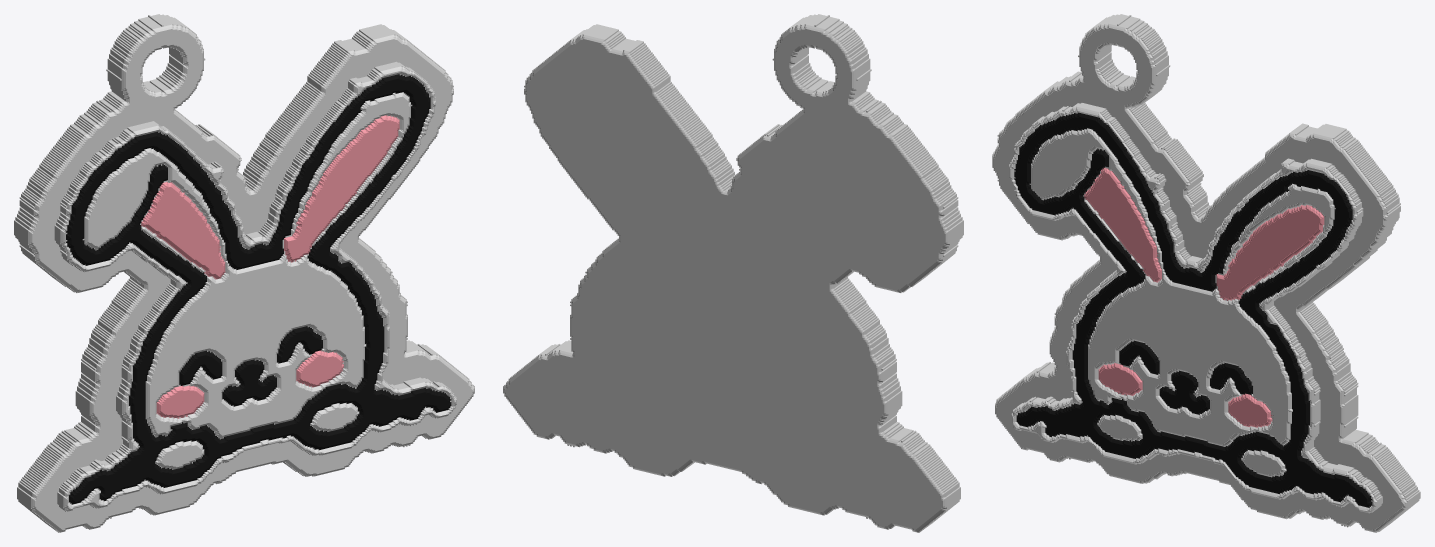
File: bunny_left_multicolour.obj
3 renders of one model, left to right at view 1: azimuth 30°, elevation 25°; view 2: azimuth 150°, elevation 25°; view 3: azimuth 330°, elevation 25°, orthographic. The views are drawn at different scales.
Parts seen in each view (by area): view 1: part_1_base_white, part_25_black_details, part_3_base_white, part_2_base_white, part_29_pink_details, part_30_pink_details, part_4_base_white, part_28_black_details, part_31_pink_details, part_32_pink_details, part_24_base_white, part_23_base_white (+2 smaller); view 2: part_1_base_white; view 3: part_1_base_white, part_25_black_details, part_3_base_white, part_2_base_white, part_29_pink_details, part_30_pink_details, part_4_base_white, part_28_black_details, part_31_pink_details, part_32_pink_details, part_24_base_white, part_23_base_white (+2 smaller).
Boxes of the visible parts, <box> form: part_1_base_white: <box>14,14,474,532</box>; part_25_black_details: <box>66,74,451,504</box>; part_3_base_white: <box>82,148,366,439</box>; part_2_base_white: <box>54,61,456,511</box>; part_29_pink_details: <box>284,115,399,262</box>; part_30_pink_details: <box>141,181,225,279</box>; part_4_base_white: <box>285,92,412,245</box>; part_28_black_details: <box>222,359,276,406</box>; part_31_pink_details: <box>296,350,343,387</box>; part_32_pink_details: <box>156,385,204,418</box>; part_24_base_white: <box>310,402,359,431</box>; part_23_base_white: <box>155,440,204,469</box>; part_1_base_white: <box>503,14,963,532</box>; part_1_base_white: <box>992,14,1420,532</box>; part_25_black_details: <box>1014,112,1372,507</box>; part_3_base_white: <box>1029,128,1292,446</box>; part_2_base_white: <box>1009,103,1382,513</box>; part_29_pink_details: <box>1216,205,1324,300</box>; part_30_pink_details: <box>1084,167,1161,282</box>; part_4_base_white: <box>1218,183,1335,294</box>; part_28_black_details: <box>1159,370,1209,414</box>; part_31_pink_details: <box>1228,393,1272,427</box>; part_32_pink_details: <box>1098,363,1142,395</box>; part_24_base_white: <box>1241,450,1286,477</box>; part_23_base_white: <box>1097,415,1142,441</box>.
Bounding box in the file's own units: 53.33 × 55.67 × 5.
